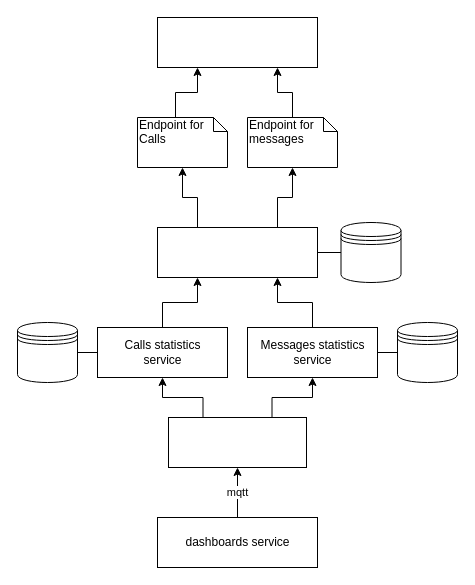
This 475x585 diagram has some shape labels left out. The shapes that lost their labels are listed below. From the top down, each one's centre as x and y in pixels, then its label:
point (237, 42): Sensor service
point (237, 252): Collector service
point (237, 442): mqtt publisher service
